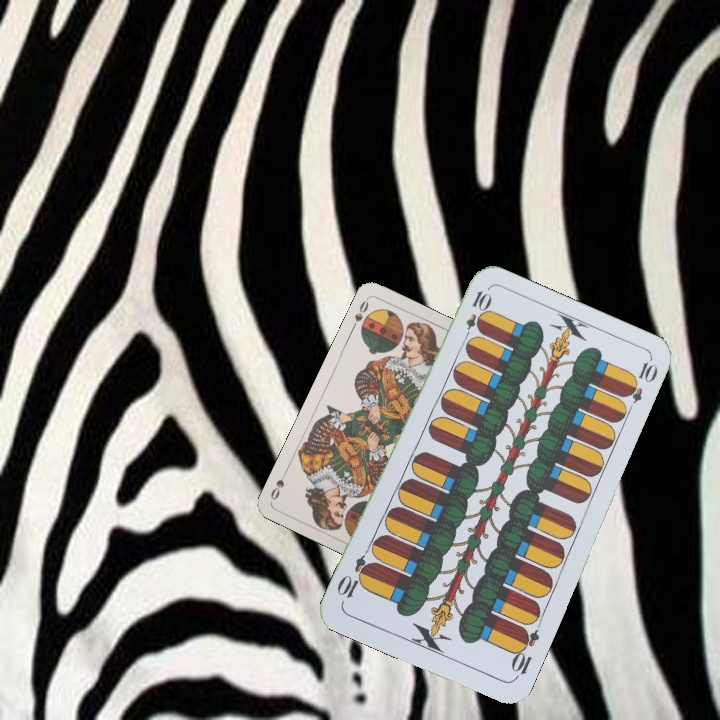E10: (506, 623, 542, 682), (459, 286, 492, 344)
SO: (348, 294, 371, 333)
